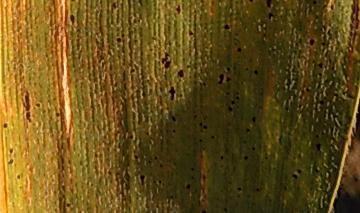tarspot: (19, 88, 31, 123), (123, 160, 132, 192), (160, 51, 173, 69), (266, 10, 277, 22), (168, 84, 175, 102), (175, 68, 186, 79), (137, 173, 145, 187), (276, 134, 286, 145), (216, 73, 225, 85), (289, 171, 299, 181), (109, 1, 119, 11), (314, 141, 323, 152), (6, 156, 14, 168), (7, 146, 16, 156), (234, 184, 244, 193), (131, 152, 140, 162), (307, 37, 315, 48), (328, 1, 336, 12), (169, 114, 177, 125), (226, 103, 234, 114), (175, 3, 182, 15), (222, 23, 231, 32), (250, 113, 257, 124), (225, 74, 232, 85), (140, 88, 147, 99), (69, 14, 75, 26), (187, 28, 195, 37), (251, 67, 259, 76), (241, 153, 249, 162), (201, 123, 209, 132), (316, 61, 325, 69), (317, 97, 325, 106), (303, 85, 311, 94), (198, 80, 207, 88), (115, 35, 123, 43), (244, 126, 252, 134), (235, 45, 242, 54), (253, 185, 260, 194), (136, 1, 145, 8), (197, 136, 204, 145), (128, 132, 135, 141), (65, 200, 72, 209), (2, 120, 8, 130), (198, 208, 210, 213), (33, 101, 41, 108), (209, 133, 217, 140), (184, 182, 191, 190), (170, 127, 177, 135), (225, 65, 232, 73), (250, 143, 257, 151), (223, 89, 230, 97), (128, 67, 136, 74), (221, 206, 229, 213), (155, 178, 162, 186), (265, 1, 271, 10), (219, 153, 225, 162), (263, 151, 269, 160), (233, 88, 240, 95), (152, 154, 159, 161), (188, 165, 195, 172), (15, 173, 22, 180), (167, 193, 174, 200), (146, 159, 153, 166), (54, 111, 60, 119), (233, 95, 241, 101), (158, 161, 164, 169), (106, 168, 112, 176), (317, 71, 323, 77), (247, 1, 255, 3)
